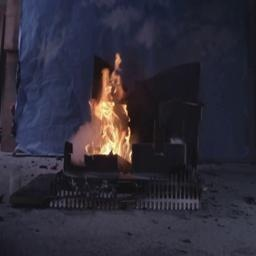fire: (75, 51, 139, 166)
